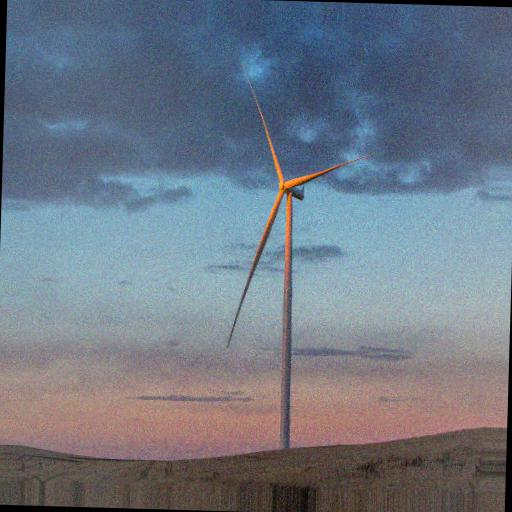wind turbine: (223, 68, 375, 440)
